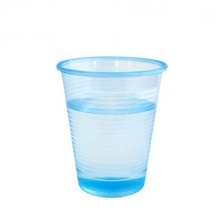glass: (53, 52, 172, 201)
